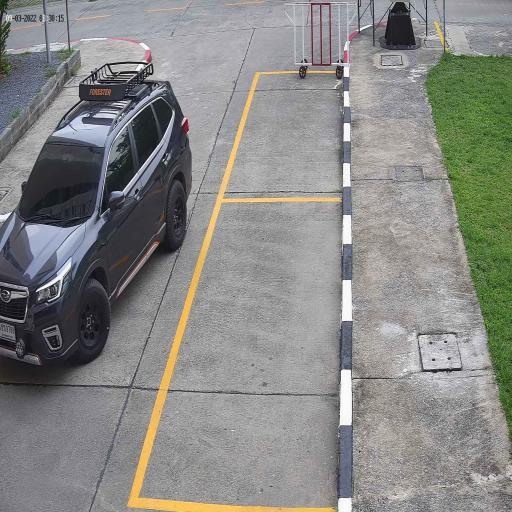car: (0, 76, 194, 370)
